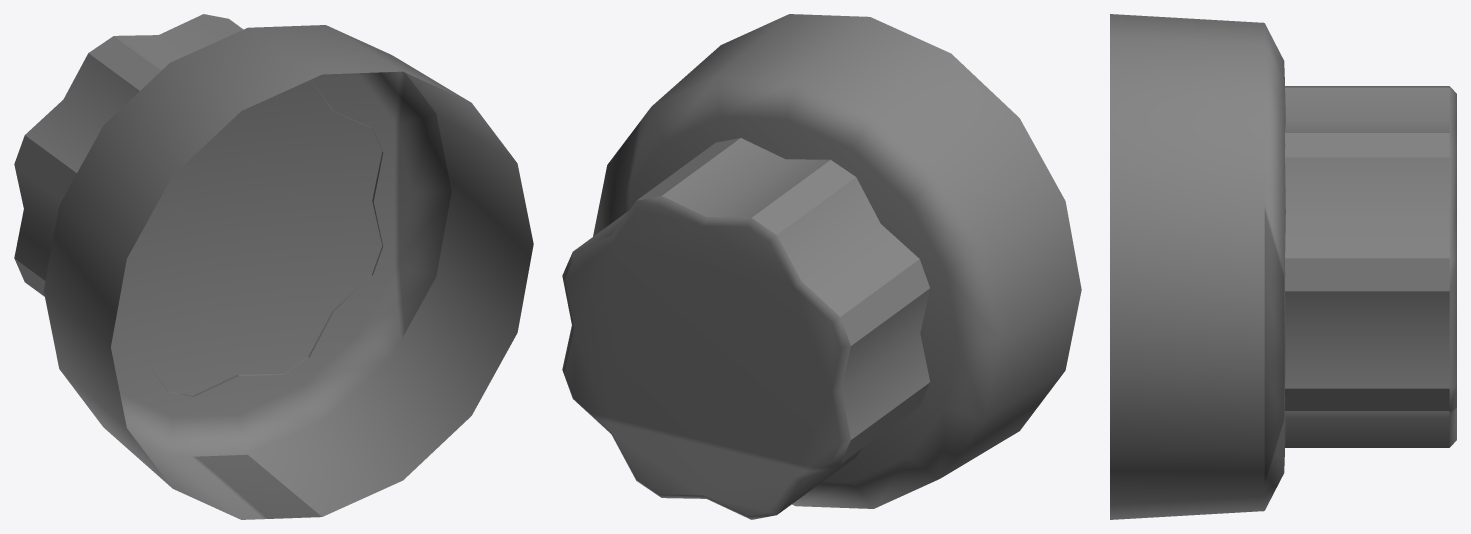
File: SM_bouton_oscilloscope.fbx
3 views of the same model, side by side, from view 1: azimuth 30°, elevation 25°; view 2: azimuth 150°, elevation 25°; view 3: azimuth 270°, elevation 25° (orthographic). The views are drawn at different scales.
Parts seen in each view (by area): view 1: SM_bouton_oscilloscope; view 2: SM_bouton_oscilloscope; view 3: SM_bouton_oscilloscope.
Boxes of the visible parts, left/top/right/bottom form: SM_bouton_oscilloscope: left=14, top=14, right=533, bottom=519; SM_bouton_oscilloscope: left=562, top=14, right=1081, bottom=519; SM_bouton_oscilloscope: left=1110, top=14, right=1456, bottom=519.
Size of the model in its own units: 13.29 by 13.29 by 9.1.
1 material, 1 textured.
